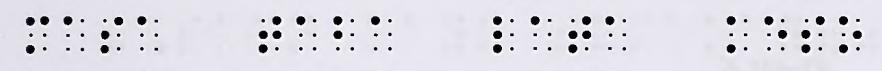letter_a: (62, 15, 85, 52), (531, 15, 553, 52), (295, 16, 317, 51), (137, 15, 158, 51), (371, 16, 392, 51), (605, 16, 626, 51)
letter_b: (333, 15, 355, 52)
letter_e: (764, 16, 787, 51)
letter_k: (726, 16, 748, 53)
letter_l: (493, 15, 514, 54)
letter_m: (25, 15, 49, 54)
letter_o: (839, 15, 862, 53)
letter_s: (801, 16, 826, 53), (101, 16, 123, 54)
letter_t: (259, 15, 282, 53), (569, 16, 591, 54)
